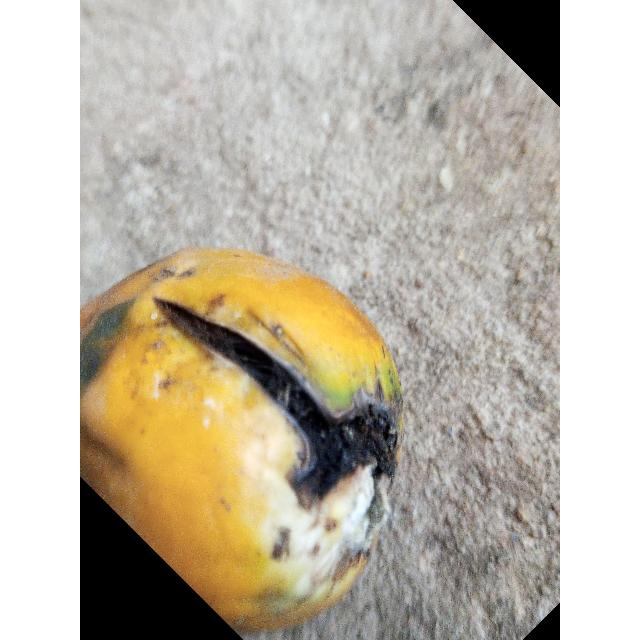damaged: (80, 248, 403, 630)
